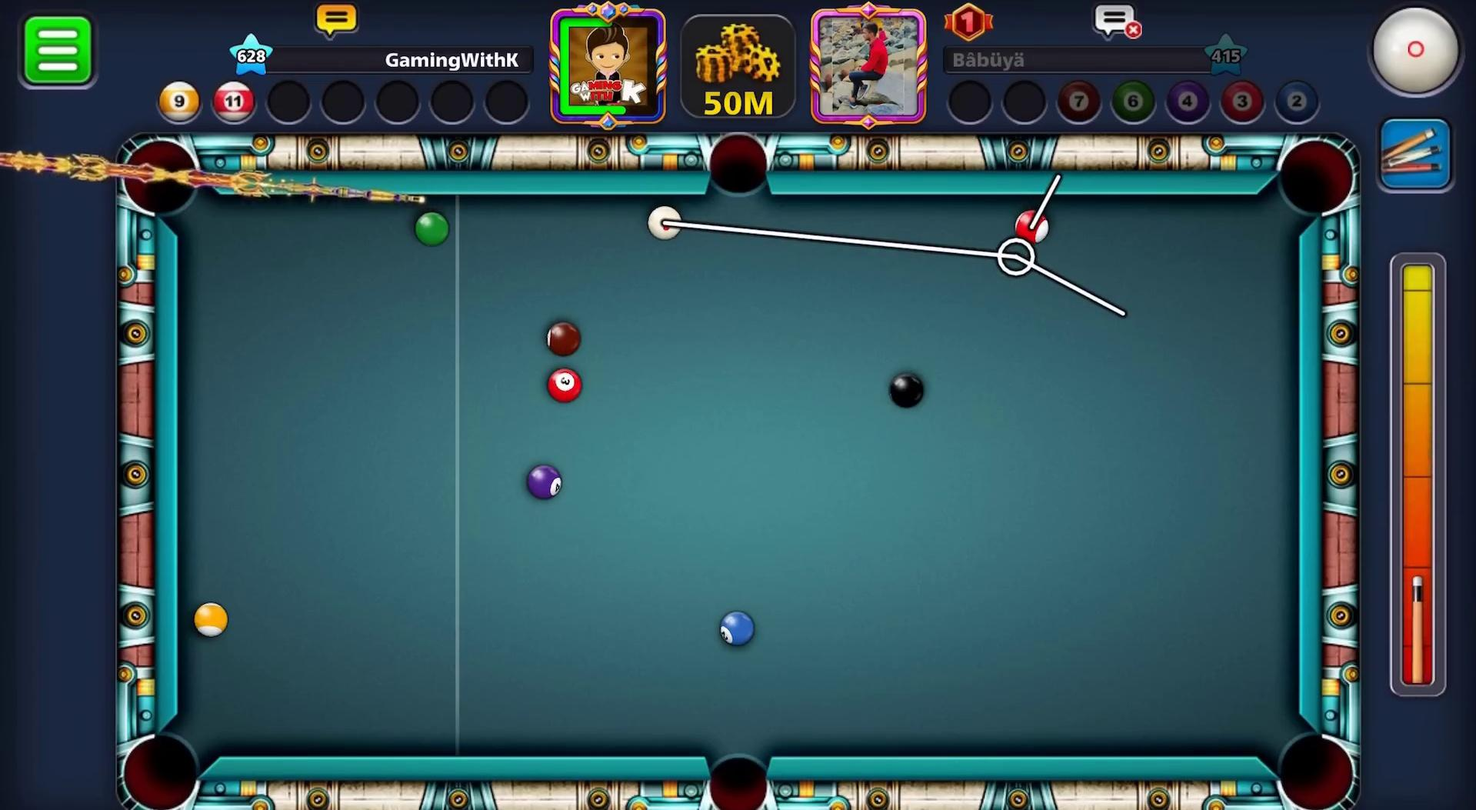Ball: (511, 452, 573, 505), (531, 315, 587, 364), (881, 369, 930, 413), (715, 604, 756, 655), (194, 590, 227, 647), (1009, 205, 1051, 249), (408, 211, 449, 248)
Force: (1386, 255, 1453, 701)
Guideline: (664, 162, 1132, 322)
Hole: (100, 709, 224, 809), (102, 123, 215, 228), (1254, 706, 1368, 809), (1264, 126, 1364, 229), (685, 711, 776, 809), (701, 120, 791, 214)
Play_Area: (178, 196, 1291, 758)
Spin: (1361, 0, 1475, 111)
White: (641, 199, 688, 242)
